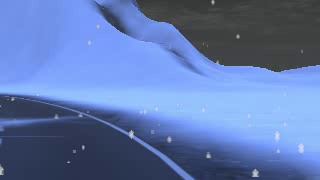Lane: (0, 94, 197, 179)
